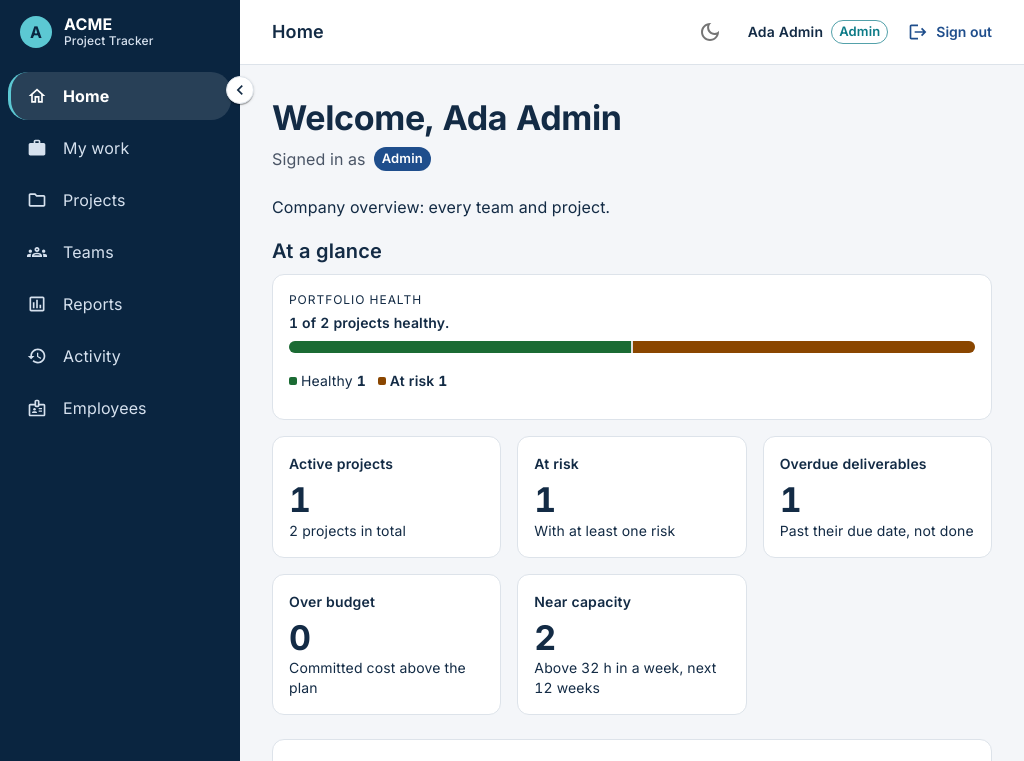
Scenario: Home numbers open their list with the filter already on › "Active projects" opens Projects filtered to active
The image size is (1024, 761).
Click the link "Active projects" at point(341, 464), box 289,455 -> 393,472
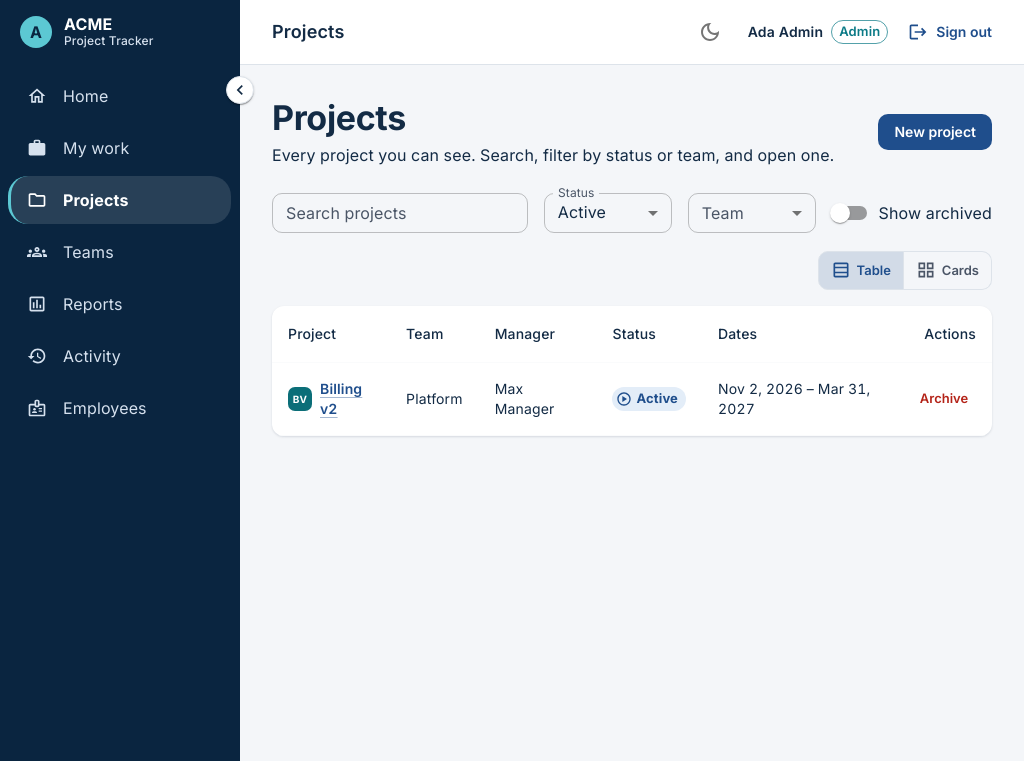
Now the dropdown named "Status" reads "Active", box 558,202 -> 606,222
